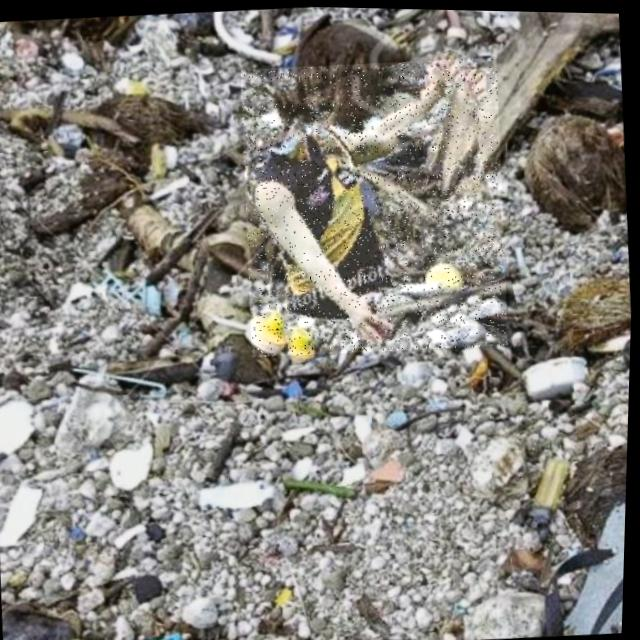Person in Rubble: (234, 50, 516, 360)
